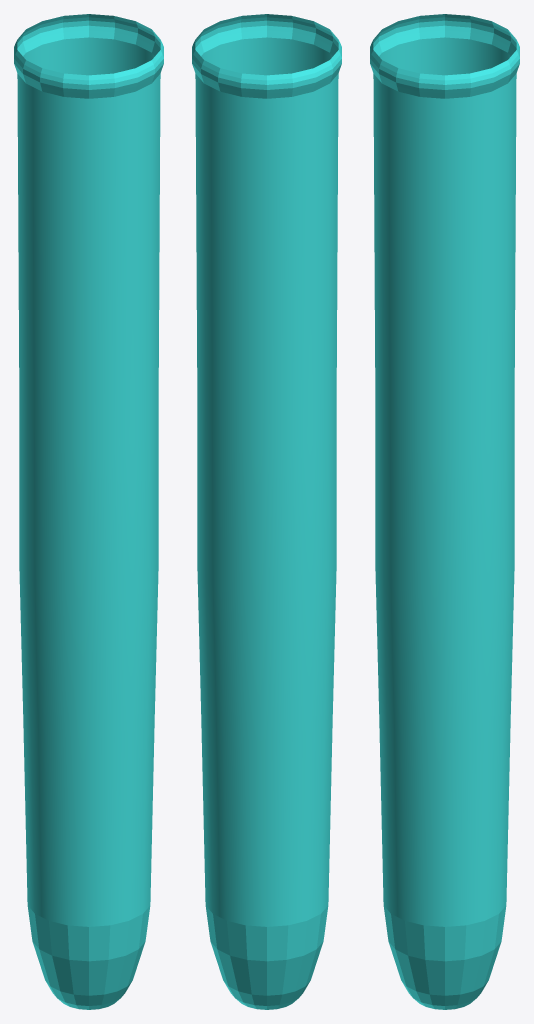
Rendered from TestTube.FBX.
3 renders of one model, left to right at view 1: azimuth 30°, elevation 25°; view 2: azimuth 150°, elevation 25°; view 3: azimuth 270°, elevation 25°, orthographic.
Visible parts, largest first — view 1: Cylinder001; view 2: Cylinder001; view 3: Cylinder001.
Boxes of the visible parts, x1,y1,x2,y2 form: Cylinder001: (14, 14, 163, 1009); Cylinder001: (192, 14, 341, 1009); Cylinder001: (370, 14, 519, 1009).
Size of the model in its own units: 168 by 1173 by 165.
